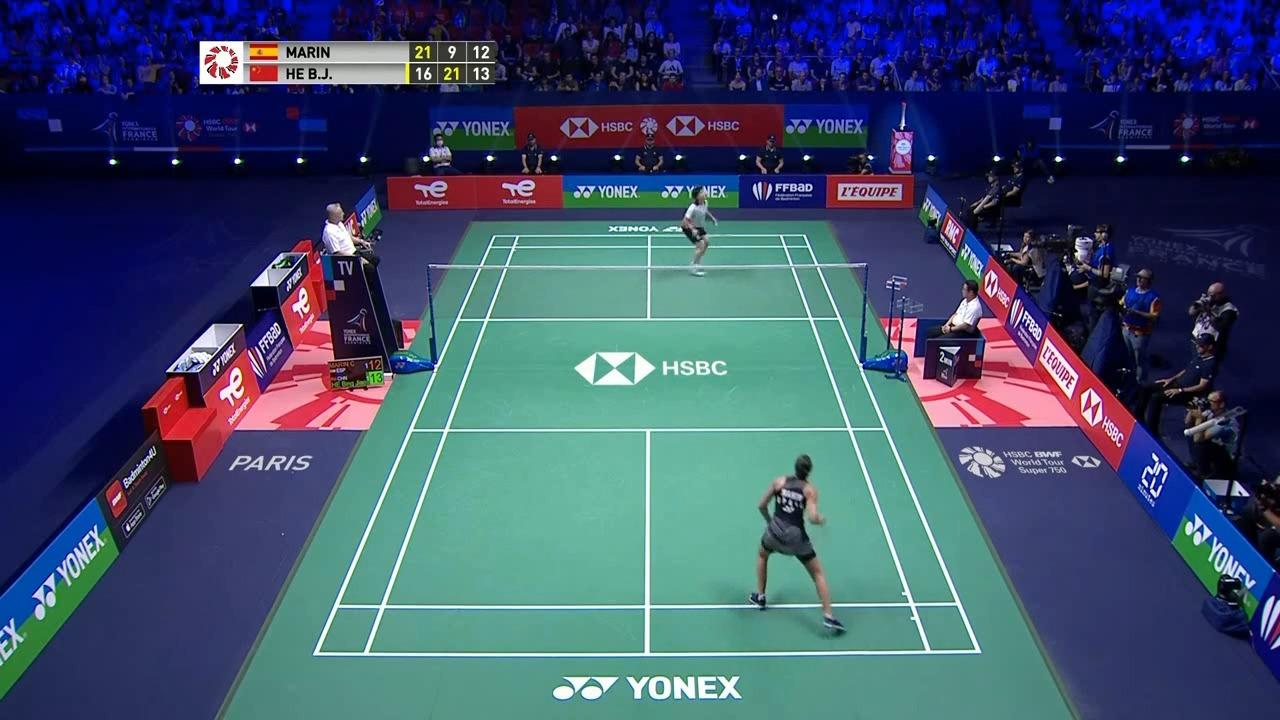shuttle: (770, 12, 779, 19)
